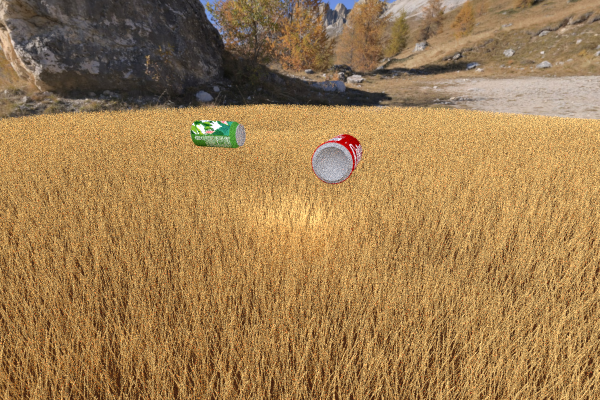Plastic Bottle: (270, 109, 355, 155), (311, 134, 362, 184), (190, 120, 245, 148)
